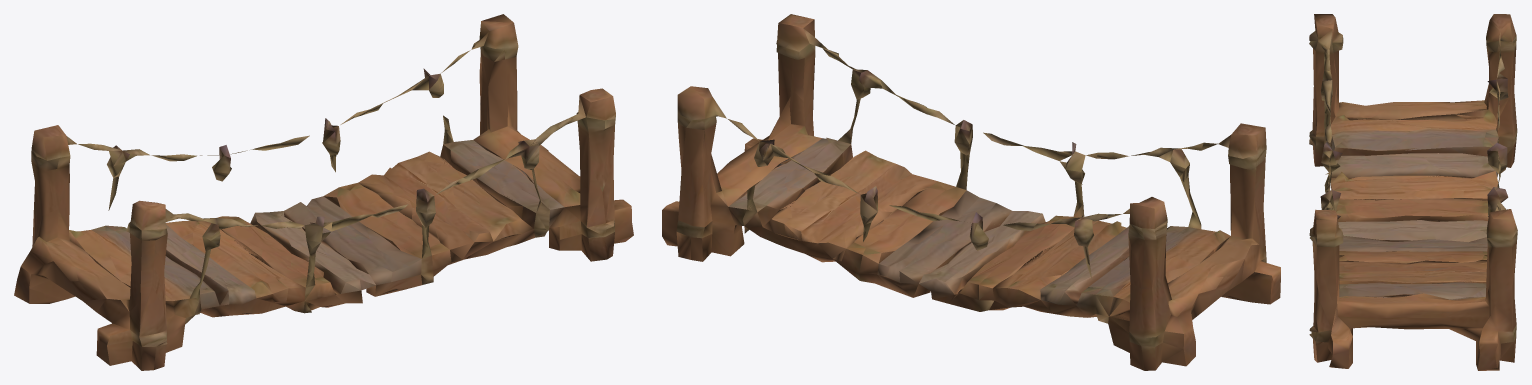
Rendered from playa_puente.glb.
3 views of the same model, side by side, from view 1: azimuth 30°, elevation 25°; view 2: azimuth 150°, elevation 25°; view 3: azimuth 270°, elevation 25° (orthographic). The views are drawn at different scales.
Parts seen in each view (by area): view 1: tripo_node_05db9cad-61d4-4ab4-8c20-ed90b06ce3e0; view 2: tripo_node_05db9cad-61d4-4ab4-8c20-ed90b06ce3e0; view 3: tripo_node_05db9cad-61d4-4ab4-8c20-ed90b06ce3e0.
Part boxes in pixels (bbox=[...]): tripo_node_05db9cad-61d4-4ab4-8c20-ed90b06ce3e0: bbox=[14, 14, 633, 370]; tripo_node_05db9cad-61d4-4ab4-8c20-ed90b06ce3e0: bbox=[662, 14, 1280, 370]; tripo_node_05db9cad-61d4-4ab4-8c20-ed90b06ce3e0: bbox=[1309, 14, 1517, 370].
Size of the model in its own units: 0.9981 by 0.2944 by 0.3854.
Materials: 1 (1 with a texture image).
